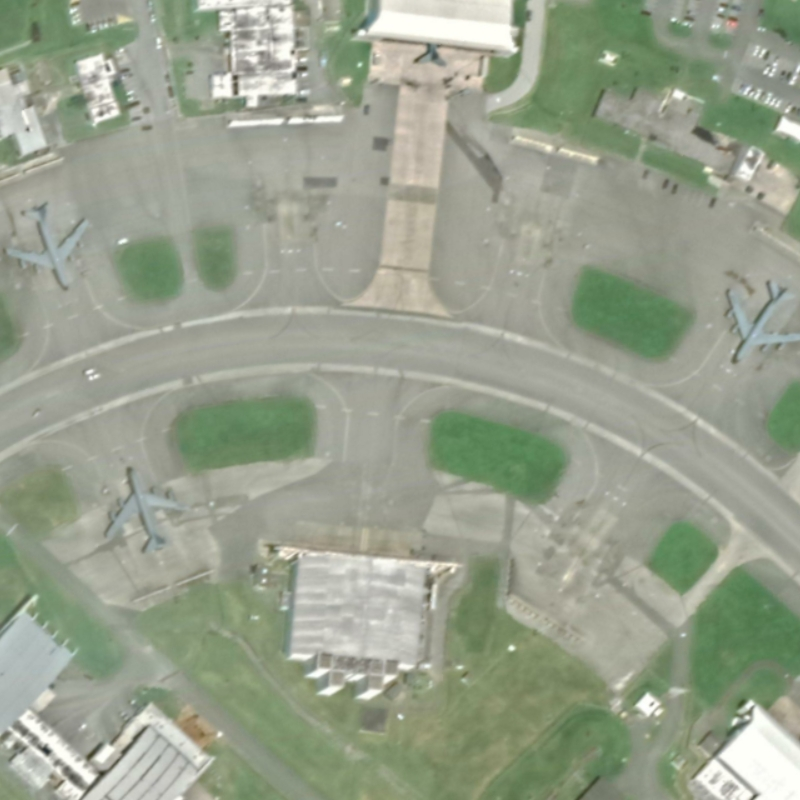A14: (100, 455, 195, 556), (2, 198, 95, 299), (715, 272, 800, 370)
